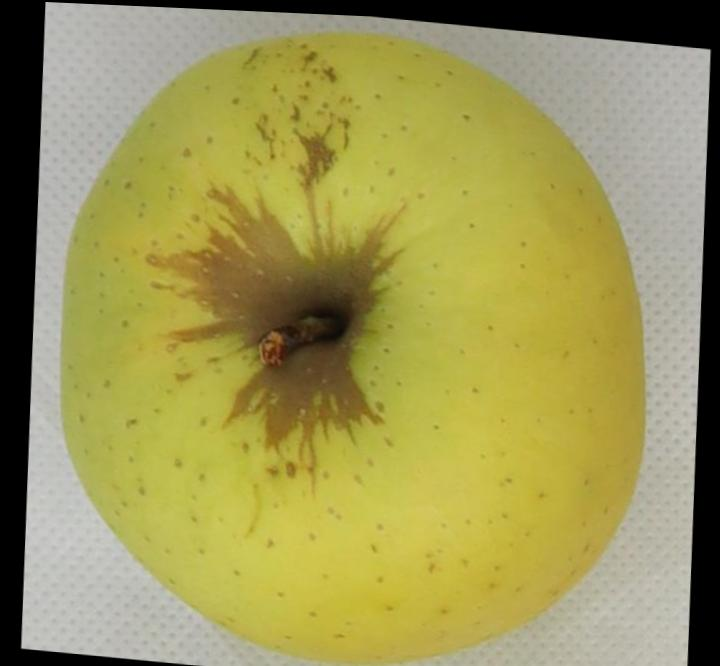apple: (60, 32, 641, 663)
bruise_discoloration: (144, 116, 396, 474)
